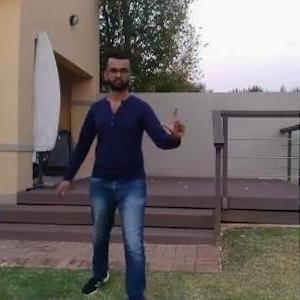land_hand: (157, 102, 192, 144)
